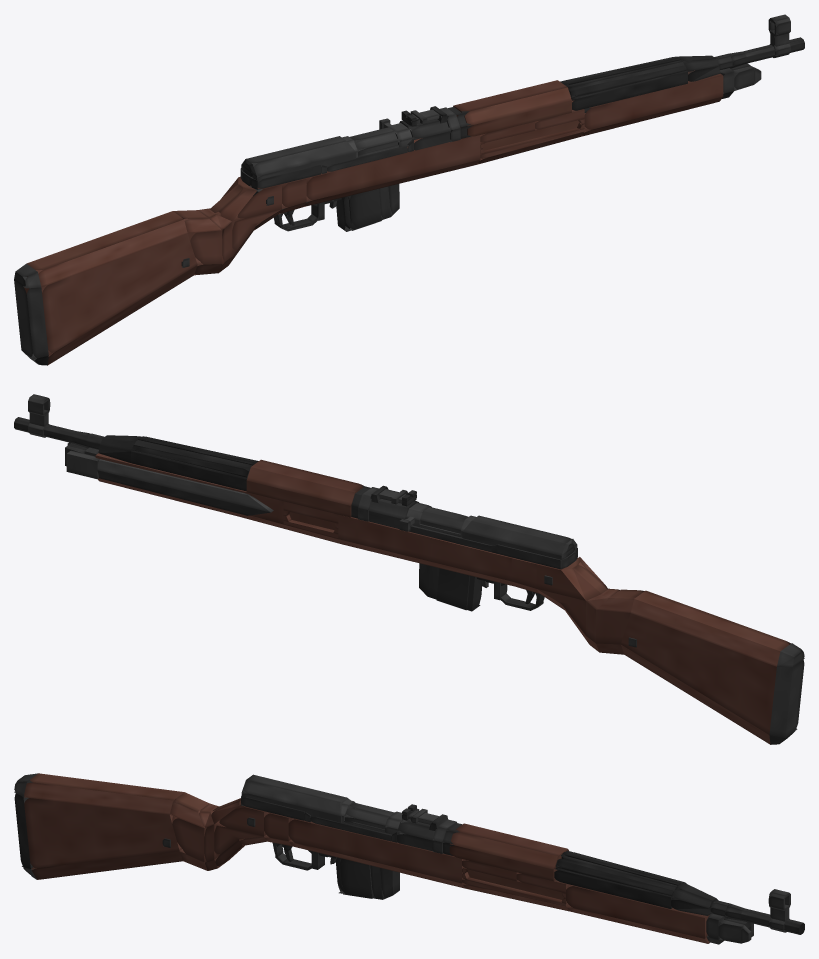
3 views of the same model, one above another, from view 1: azimuth 30°, elevation 25°; view 2: azimuth 150°, elevation 25°; view 3: azimuth 330°, elevation 25° (orthographic).
Parts seen in each view (by area): view 1: gunModel15, gunModel0, gunModel10, gunModel20, gunModel37, gunModel83, gunModel33, gunModel38, gunModel9, gunModel36, gunModel39, ammoModel1 (+14 smaller); view 2: gunModel15, gunModel0, gunModel10, gunModel37, gunModel103, gunModel83, gunModel33, gunModel104, gunModel38, gunModel9, gunModel39, gunModel36 (+13 smaller); view 3: gunModel15, gunModel0, gunModel10, gunModel20, gunModel37, gunModel83, gunModel9, gunModel38, gunModel39, gunModel36, ammoModel1, gunModel16 (+30 smaller).
Part boxes in pixels (left/top/right/bottom): gunModel15: left=24, top=234, right=197, bottom=355; gunModel0: left=306, top=135, right=480, bottom=201; gunModel10: left=26, top=211, right=187, bottom=287; gunModel20: left=573, top=70, right=723, bottom=131; gunModel37: left=453, top=80, right=571, bottom=126; gunModel83: left=246, top=136, right=355, bottom=176; gunModel33: left=14, top=276, right=48, bottom=359; gunModel38: left=572, top=72, right=687, bottom=110; gunModel9: left=47, top=265, right=197, bottom=365; gunModel36: left=460, top=101, right=571, bottom=137; gunModel39: left=560, top=56, right=687, bottom=99; ammoModel1: left=343, top=188, right=381, bottom=230; gunModel15: left=621, top=613, right=776, bottom=734; gunModel0: left=338, top=514, right=511, bottom=581; gunModel10: left=631, top=590, right=790, bottom=666; gunModel37: left=246, top=459, right=364, bottom=505; gunModel103: left=97, top=459, right=273, bottom=512; gunModel83: left=462, top=515, right=571, bottom=555; gunModel33: left=769, top=659, right=804, bottom=737; gunModel104: left=97, top=470, right=270, bottom=515; gunModel38: left=131, top=451, right=246, bottom=491; gunModel9: left=621, top=645, right=770, bottom=744; gunModel39: left=131, top=436, right=257, bottom=479; gunModel36: left=246, top=480, right=351, bottom=517; gunModel15: left=24, top=798, right=181, bottom=868; gunModel0: left=288, top=818, right=466, bottom=883; gunModel10: left=24, top=773, right=184, bottom=814; gunModel20: left=566, top=885, right=709, bottom=938; gunModel37: left=450, top=823, right=568, bottom=869; gunModel83: left=242, top=774, right=350, bottom=816; gunModel9: left=31, top=851, right=183, bottom=879; gunModel38: left=554, top=870, right=672, bottom=908; gunModel39: left=555, top=850, right=682, bottom=897; gunModel36: left=449, top=845, right=557, bottom=881; ammoModel1: left=340, top=858, right=374, bottom=898; gunModel16: left=172, top=816, right=206, bottom=861.
Size of the model in its own units: 31.55 by 6.3 by 1.8.
